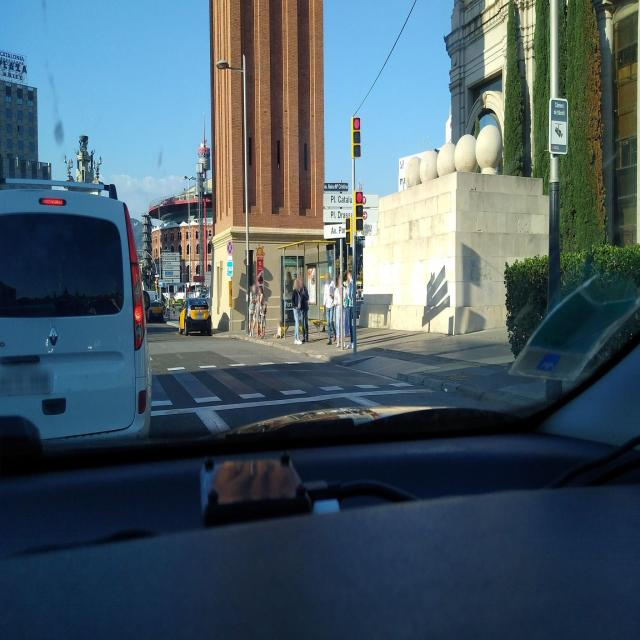car: (0, 176, 153, 470), (179, 295, 212, 335), (147, 300, 165, 322)
